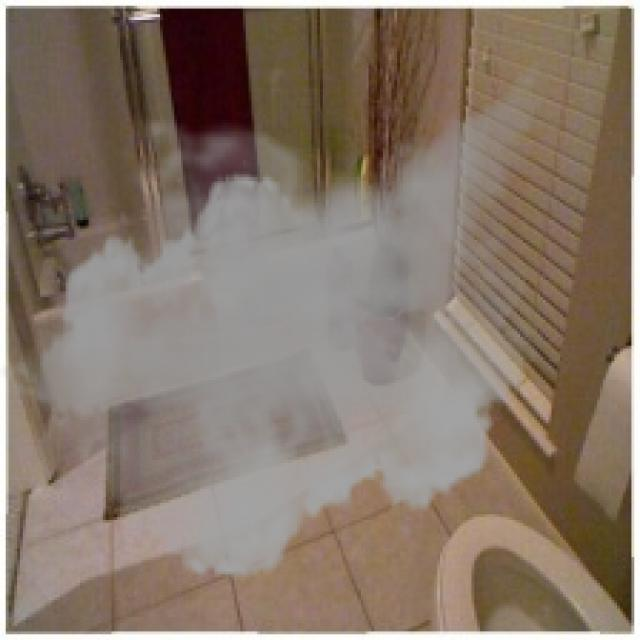smoke: (0, 29, 557, 594)
